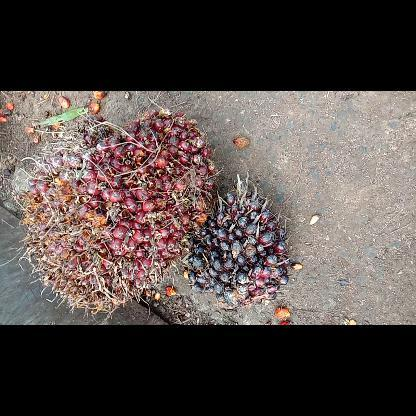TBS abnormal: (188, 172, 291, 310)
TBS masak: (17, 108, 217, 314)
